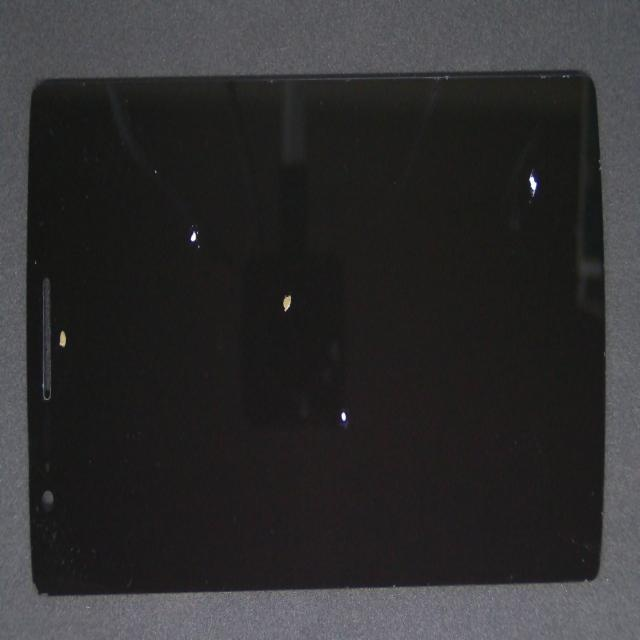stain: (191, 180, 513, 587), (239, 83, 640, 304), (159, 119, 434, 415), (111, 98, 292, 325), (38, 136, 87, 488)
